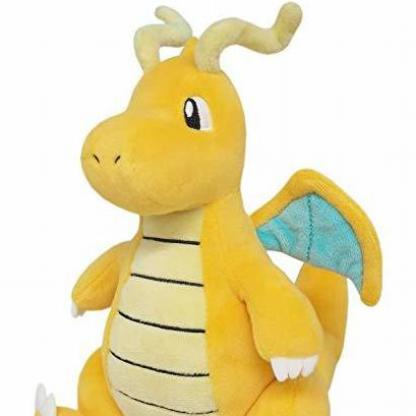Dragonite: (46, 3, 395, 416)
